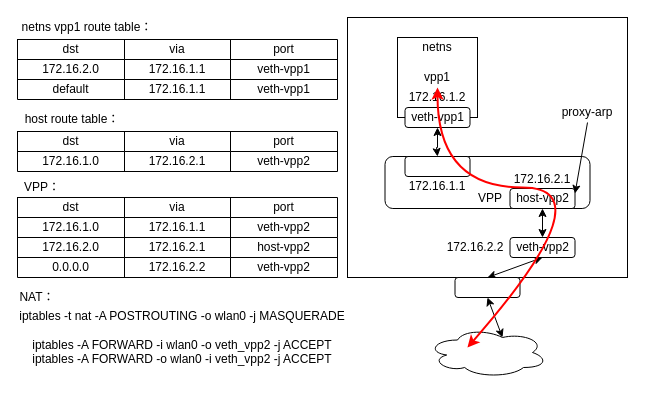
The diagram is 645 pixels wide and 395 high, and some of its shapes have lost their labels. Here are the shapes that lost their labels. From the top down, the centre of each, then its label:
At [437,166]: "host-vpp1".
At [487,287]: "wlan0".
